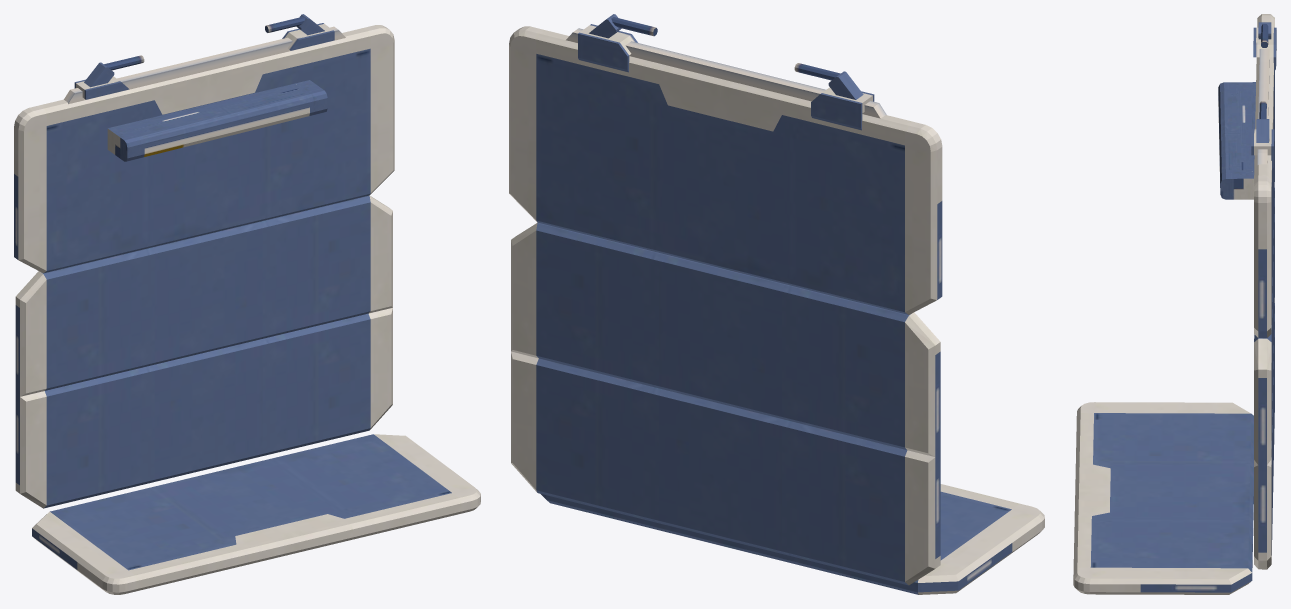
Rendered from Demo_jiazi.FBX.
3 views of the same model, side by side, from view 1: azimuth 30°, elevation 25°; view 2: azimuth 150°, elevation 25°; view 3: azimuth 270°, elevation 25° (orthographic). The views are drawn at different scales.
Visible parts, largest first — view 1: Demo_jiazi; view 2: Demo_jiazi; view 3: Demo_jiazi.
Boxes of the visible parts, x1,y1,x2,y2 form: Demo_jiazi: (14, 14, 480, 594); Demo_jiazi: (509, 14, 1044, 594); Demo_jiazi: (1073, 14, 1276, 594).
Size of the model in its own units: 3.04 by 3.42 by 1.45.
